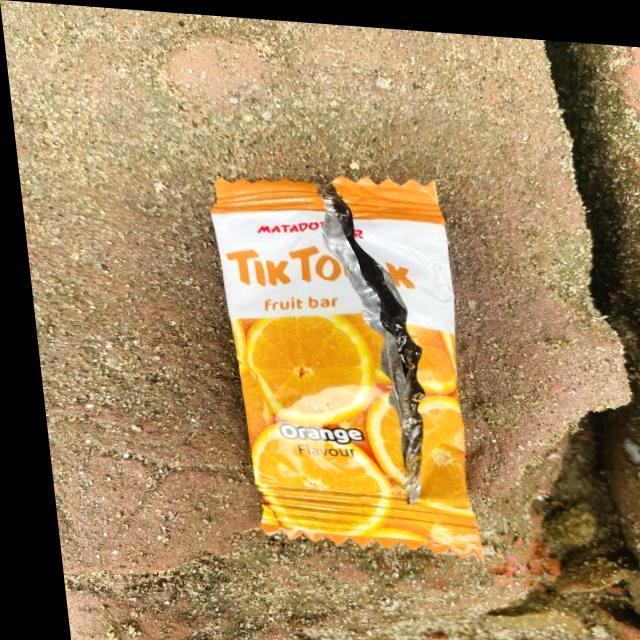packet: (199, 155, 477, 554)
